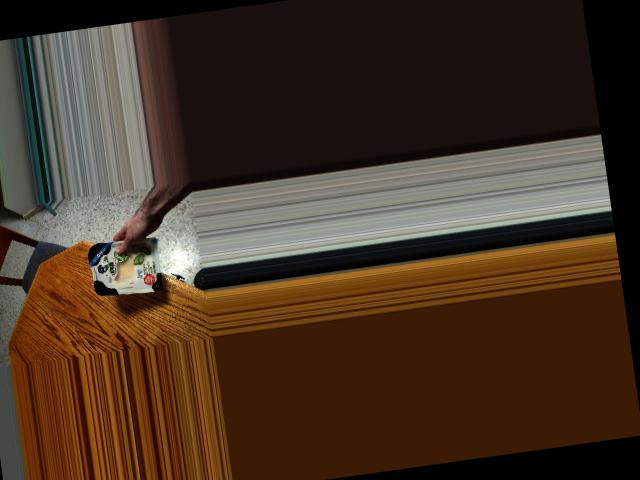cheese: (70, 231, 179, 301)
